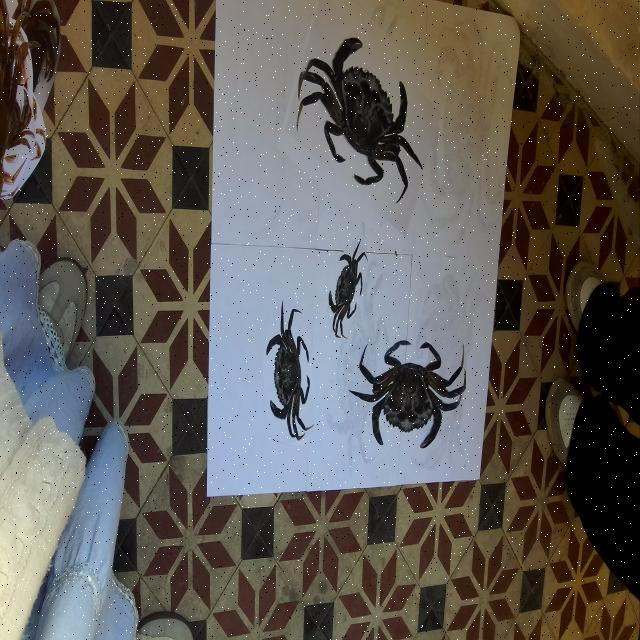European_Green_Crab: (287, 5, 440, 225), (347, 337, 467, 451), (263, 295, 315, 447), (320, 228, 374, 346)
